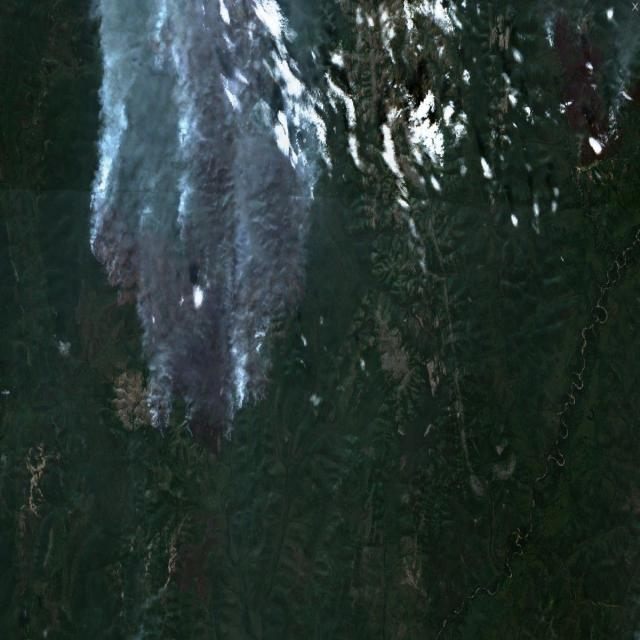fire: (82, 131, 334, 472), (138, 30, 168, 65), (539, 27, 565, 62)
